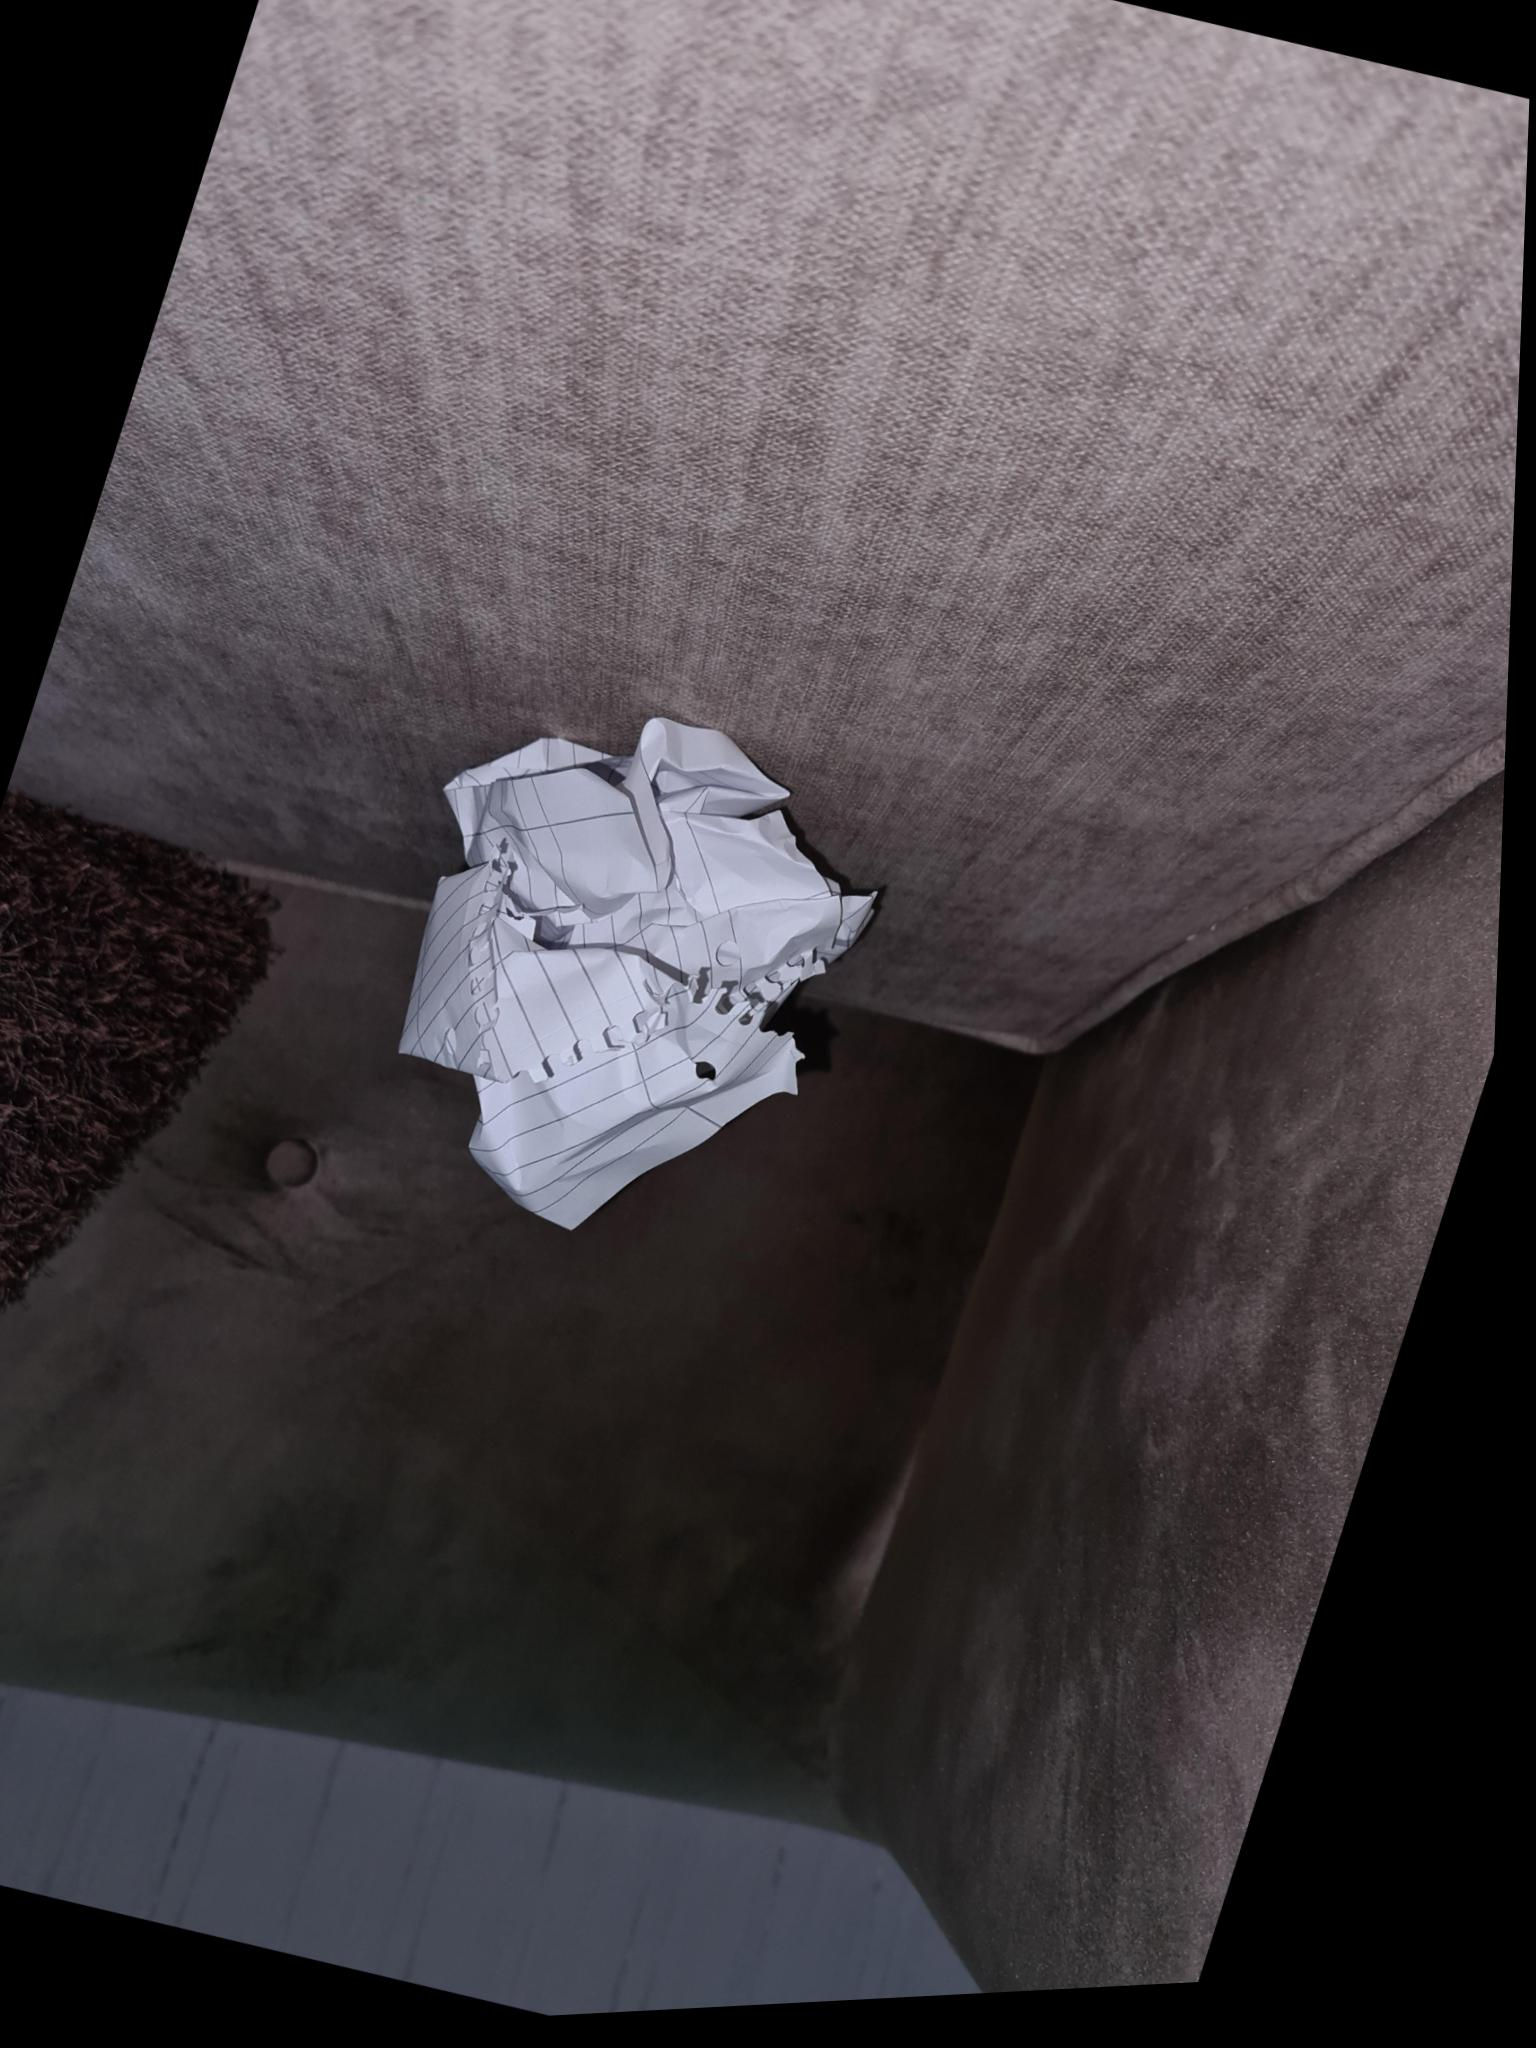paper: (399, 718, 878, 1226)
